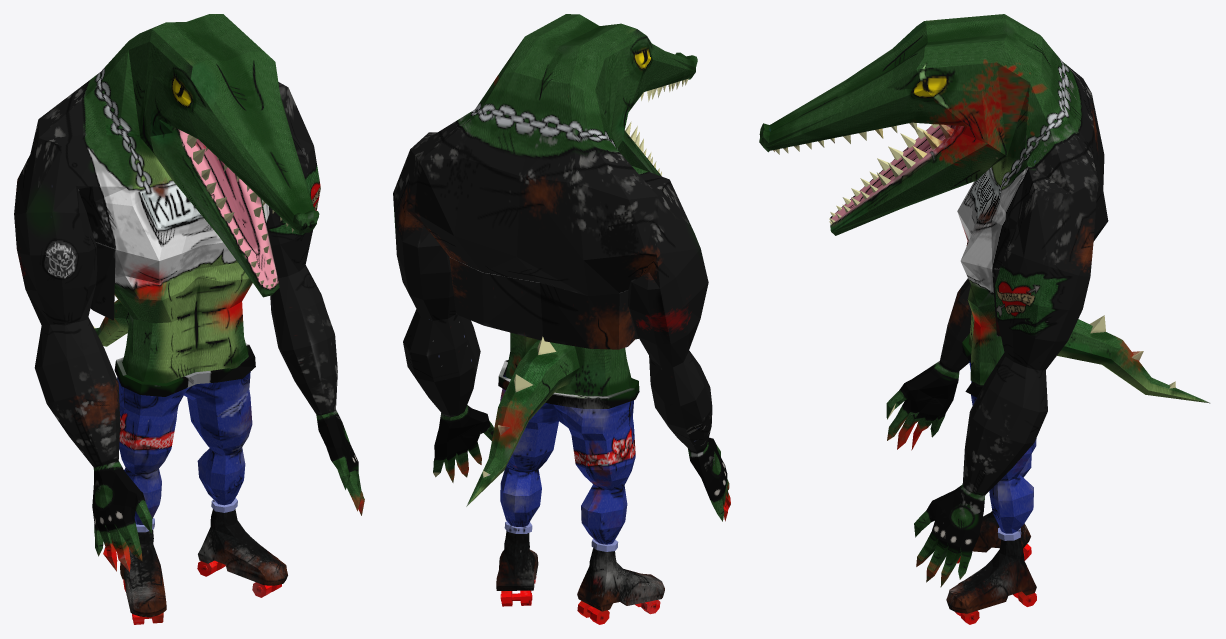
Rendered from cocodrilaBonesSelect_000052.obj.
The picture shows the model from 3 angles, left to right: view 1: azimuth 30°, elevation 25°; view 2: azimuth 150°, elevation 25°; view 3: azimuth 270°, elevation 25°; orthographic projection. The views are drawn at different scales.
Parts seen in each view (by area): view 1: Crocodile.002_Cylinder.002; view 2: Crocodile.002_Cylinder.002; view 3: Crocodile.002_Cylinder.002.
Part boxes in pixels (box(x1,y1,x2,y2)): Crocodile.002_Cylinder.002: box(14, 14, 364, 624); Crocodile.002_Cylinder.002: box(393, 14, 730, 624); Crocodile.002_Cylinder.002: box(759, 14, 1210, 624).
Bounding box in the file's own units: 3.69 × 6.72 × 4.9.
